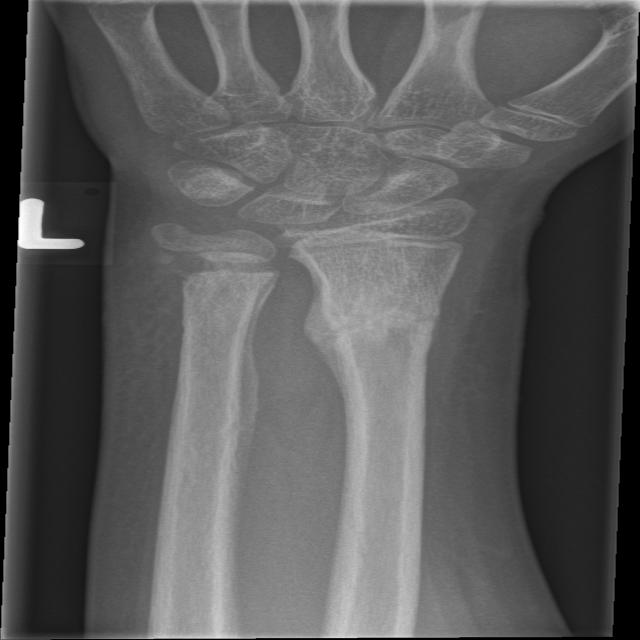radius fracture: (282, 279, 486, 400)
